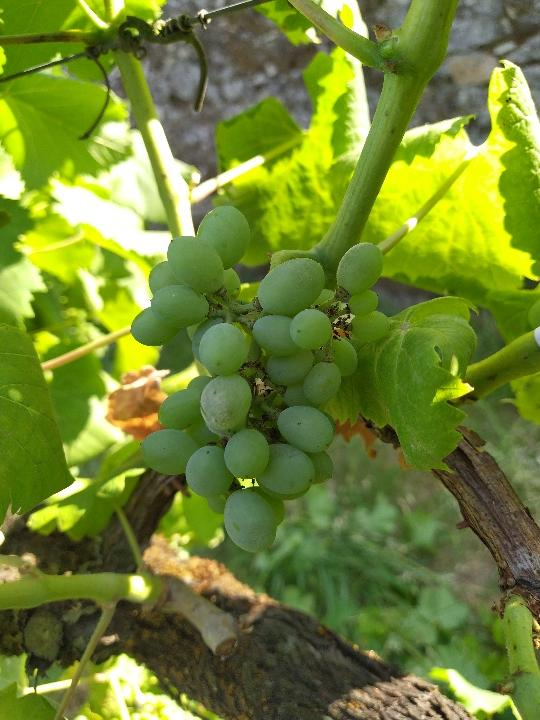grape: (128, 200, 391, 561)
